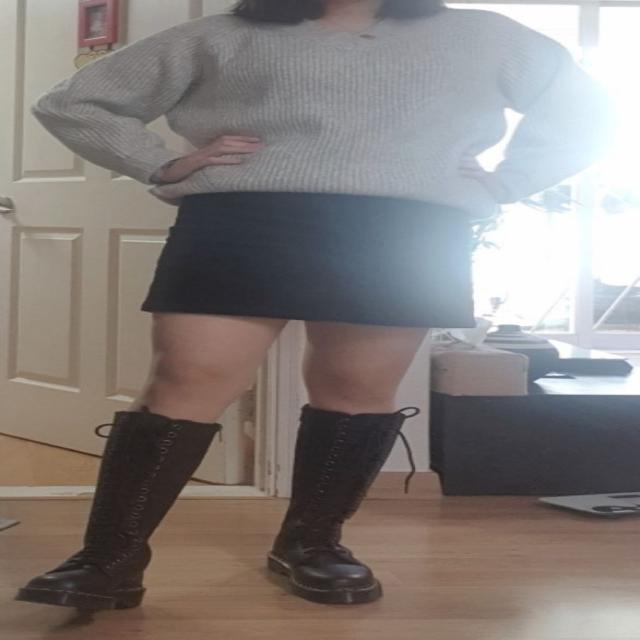skirt: (135, 190, 473, 328)
sweater: (31, 5, 613, 221)
